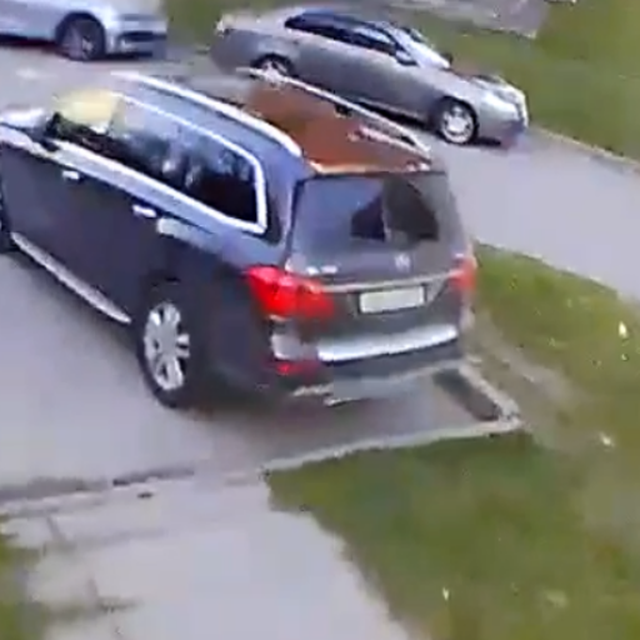car: (1, 64, 479, 410), (214, 2, 529, 145)
